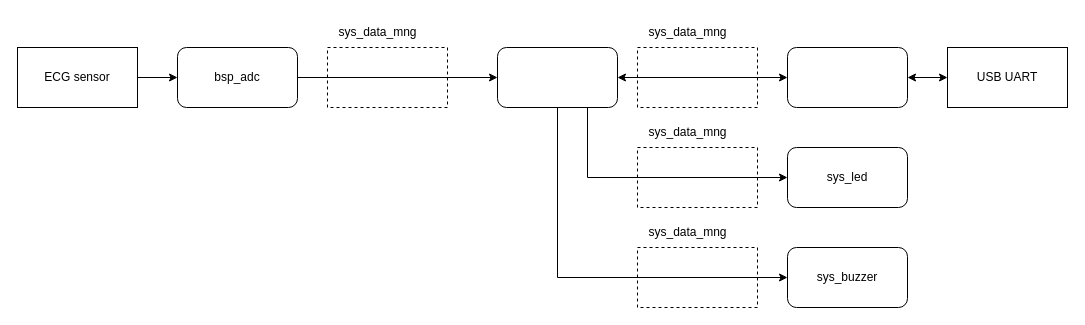
The diagram is 1085 pixels wide and 325 high, and some of its shapes have lost their labels. The box of each missing label's shape, as (x1, y1, x2, y2) in pixels:
sys_mng: (496, 46, 618, 108)
sys_uart: (786, 46, 908, 108)
